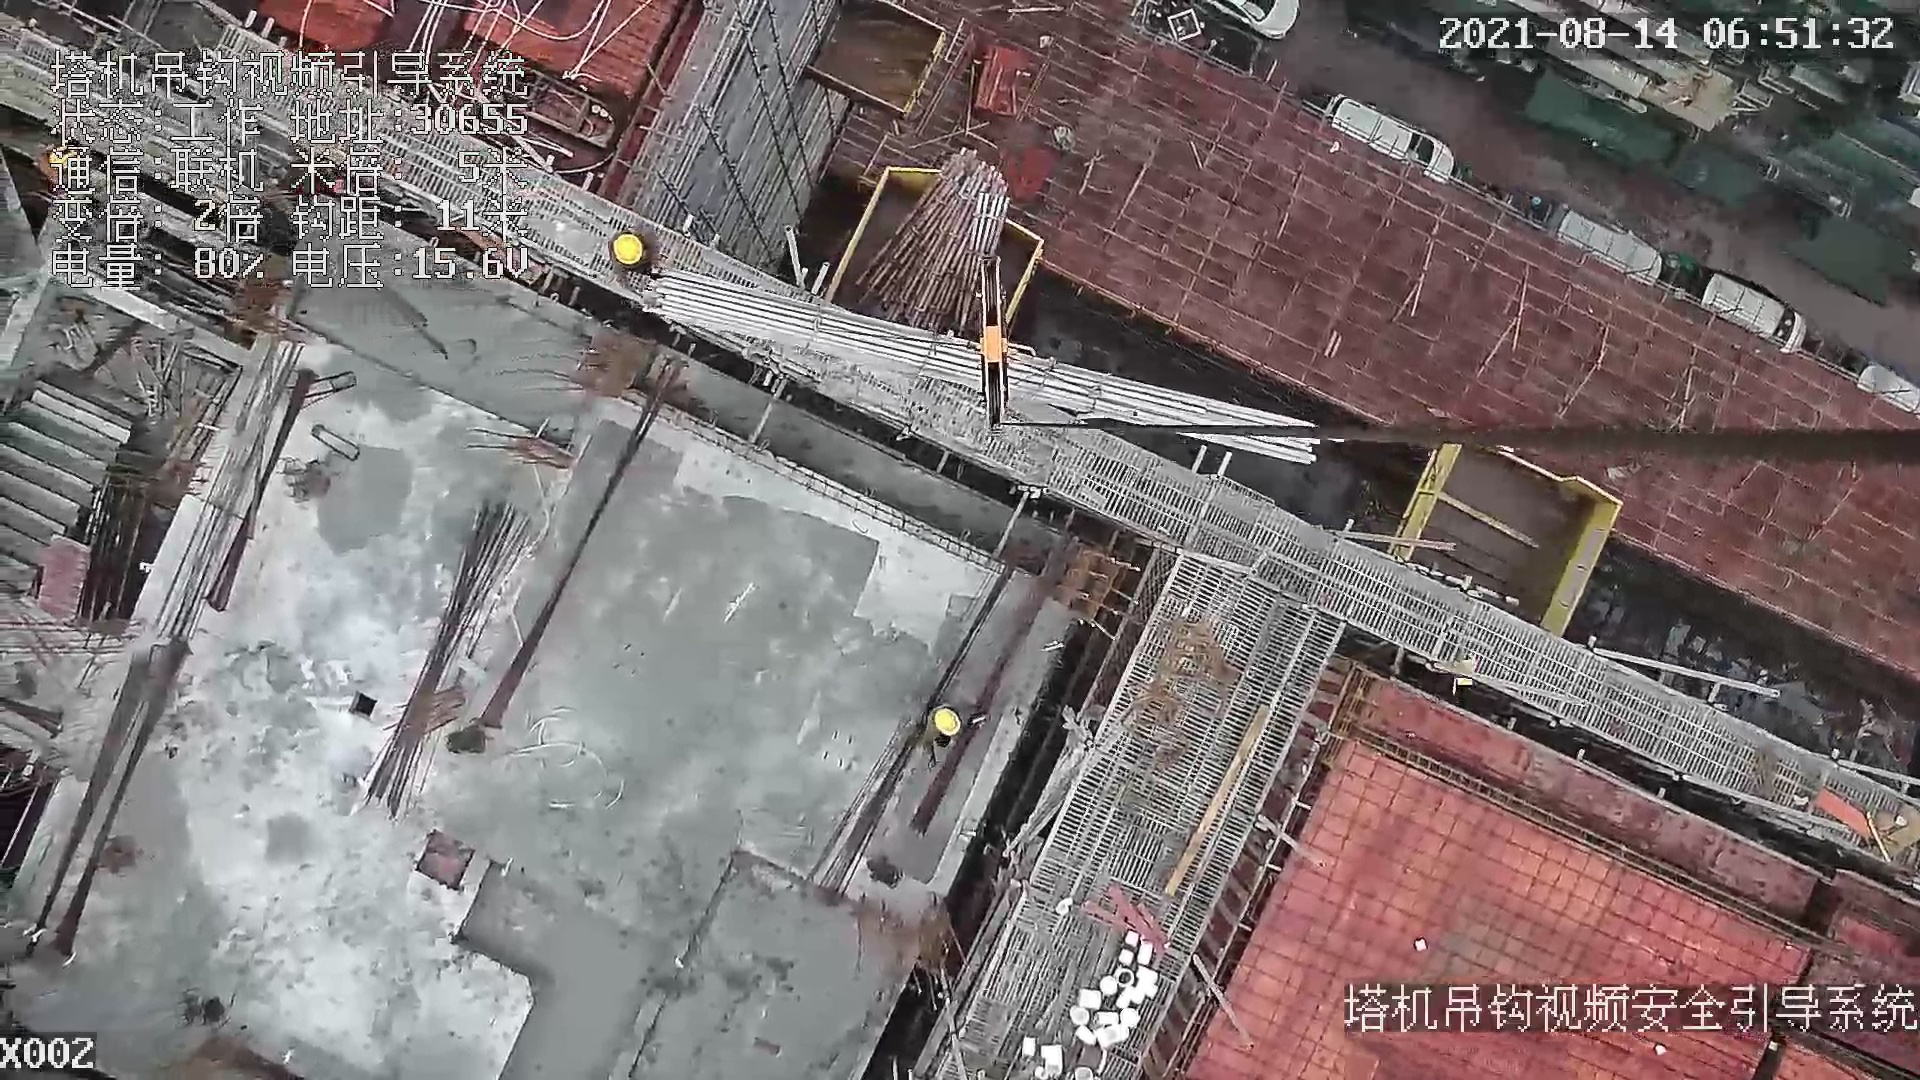helmet: (928, 707, 965, 740), (610, 233, 644, 267)
hook: (967, 254, 1044, 435)
person: (597, 224, 665, 300), (919, 699, 986, 758)
rebar: (650, 274, 1327, 466), (362, 500, 539, 815)
scaffold: (859, 153, 1005, 333)
